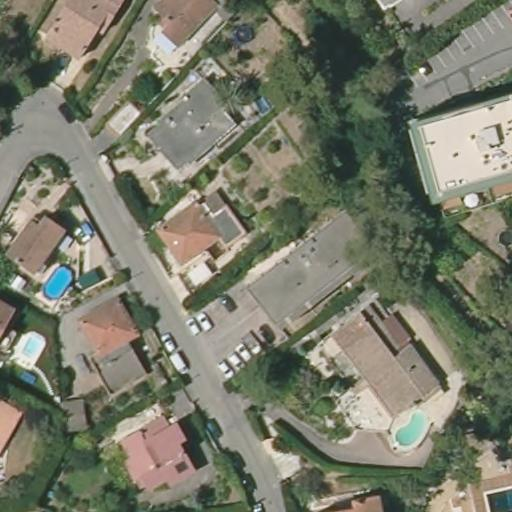pool: (389, 402, 434, 448), (37, 258, 77, 301), (482, 482, 511, 511), (24, 330, 43, 360), (247, 93, 272, 115)
